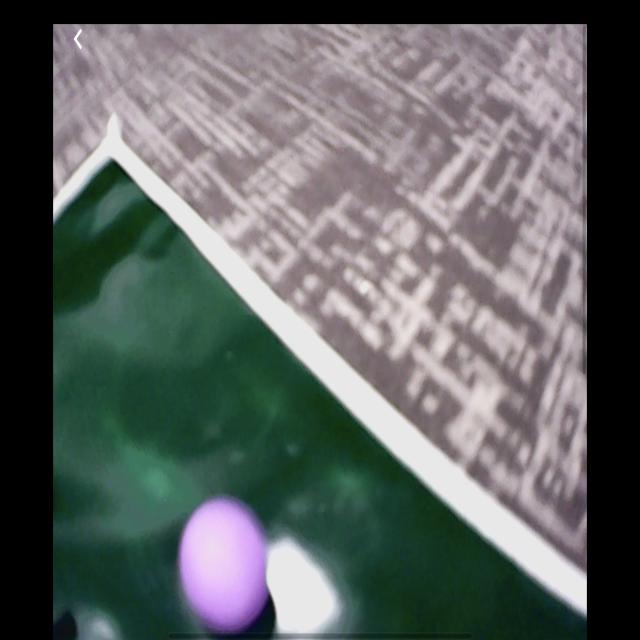ball: (181, 503, 271, 636)
